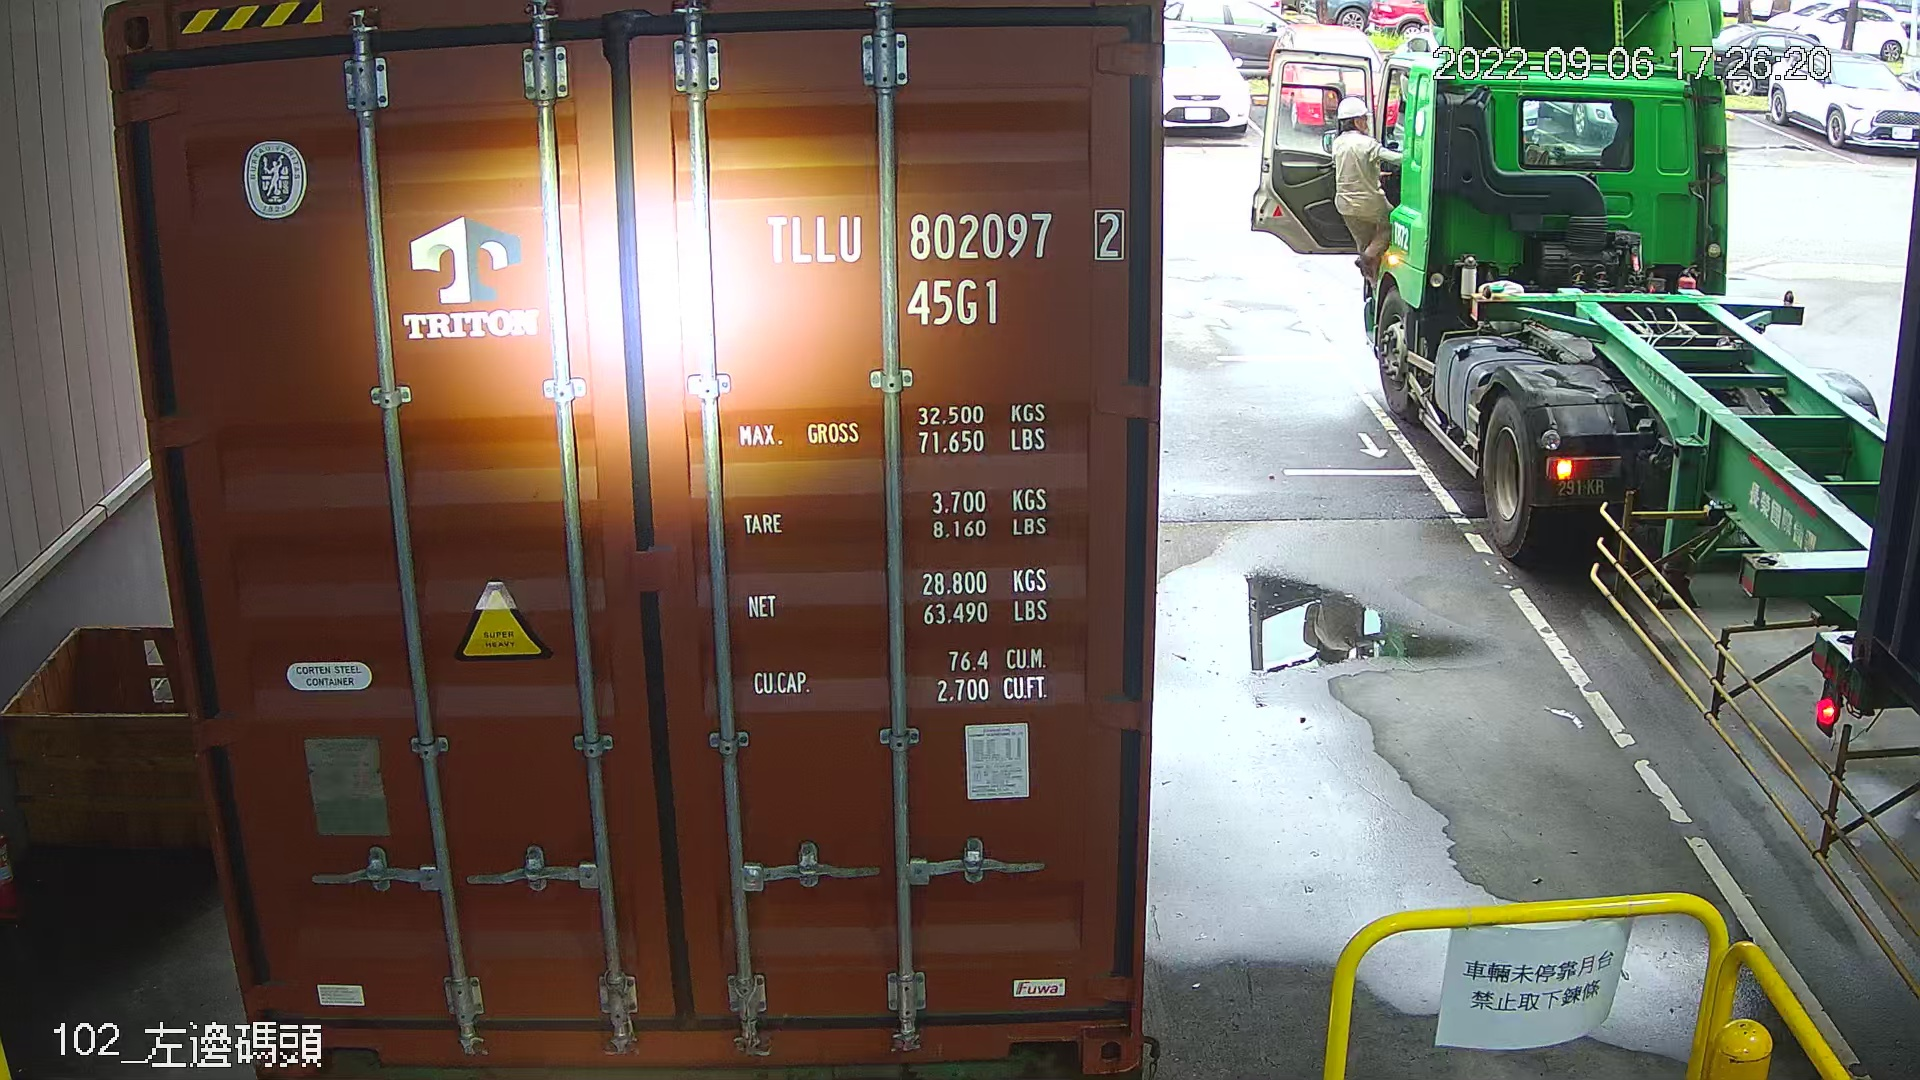container: (756, 195, 1139, 336)
